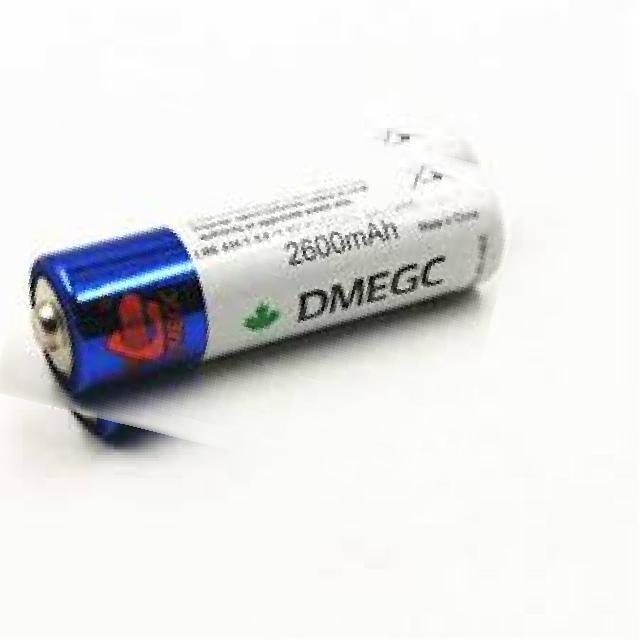Battery: (20, 123, 525, 407)
